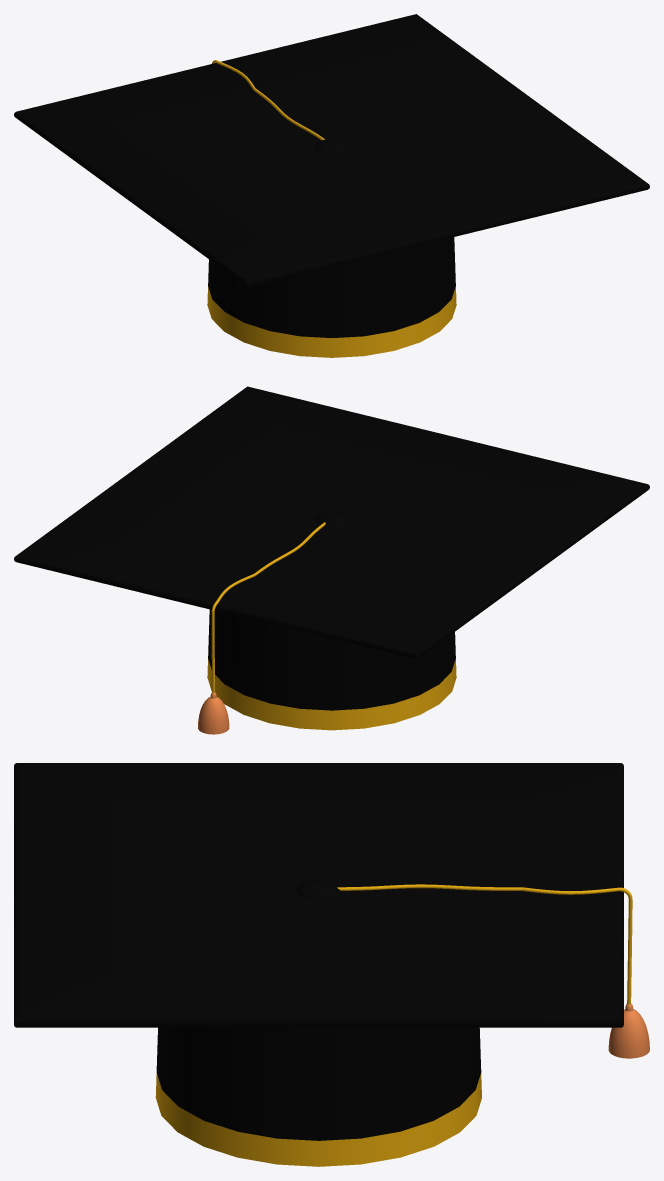
File: graduation_cap.glb
3 views of the same model, one above another, from view 1: azimuth 30°, elevation 25°; view 2: azimuth 150°, elevation 25°; view 3: azimuth 270°, elevation 25° (orthographic). The views are drawn at different scales.
Visible parts, largest first — view 1: Cube_0; view 2: Cube_0, Sphere.001_3, Cube.001_2; view 3: Cube_0, Cube.001_2, Sphere.001_3, Sphere_1.
Part boxes in pixels (x1,y1,x2,y2): Cube_0: [14, 14, 649, 357]; Cube_0: [14, 386, 649, 730]; Sphere.001_3: [198, 692, 229, 734]; Cube.001_2: [211, 522, 325, 692]; Cube_0: [14, 763, 623, 1166]; Cube.001_2: [337, 884, 632, 1004]; Sphere.001_3: [608, 1003, 649, 1058]; Sphere_1: [296, 879, 340, 899].
Size of the model in its own units: 5.62 by 2.17 by 5.86.
